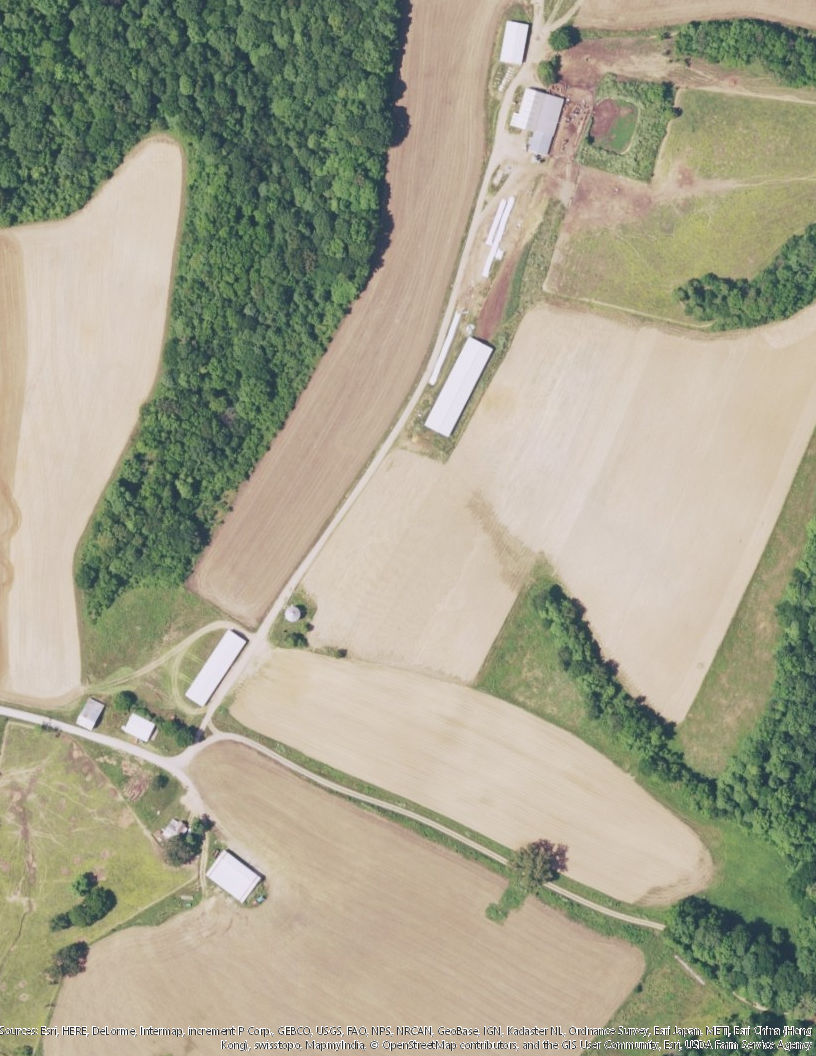cafo: (417, 328, 501, 446), (183, 626, 254, 714), (511, 85, 577, 155)
